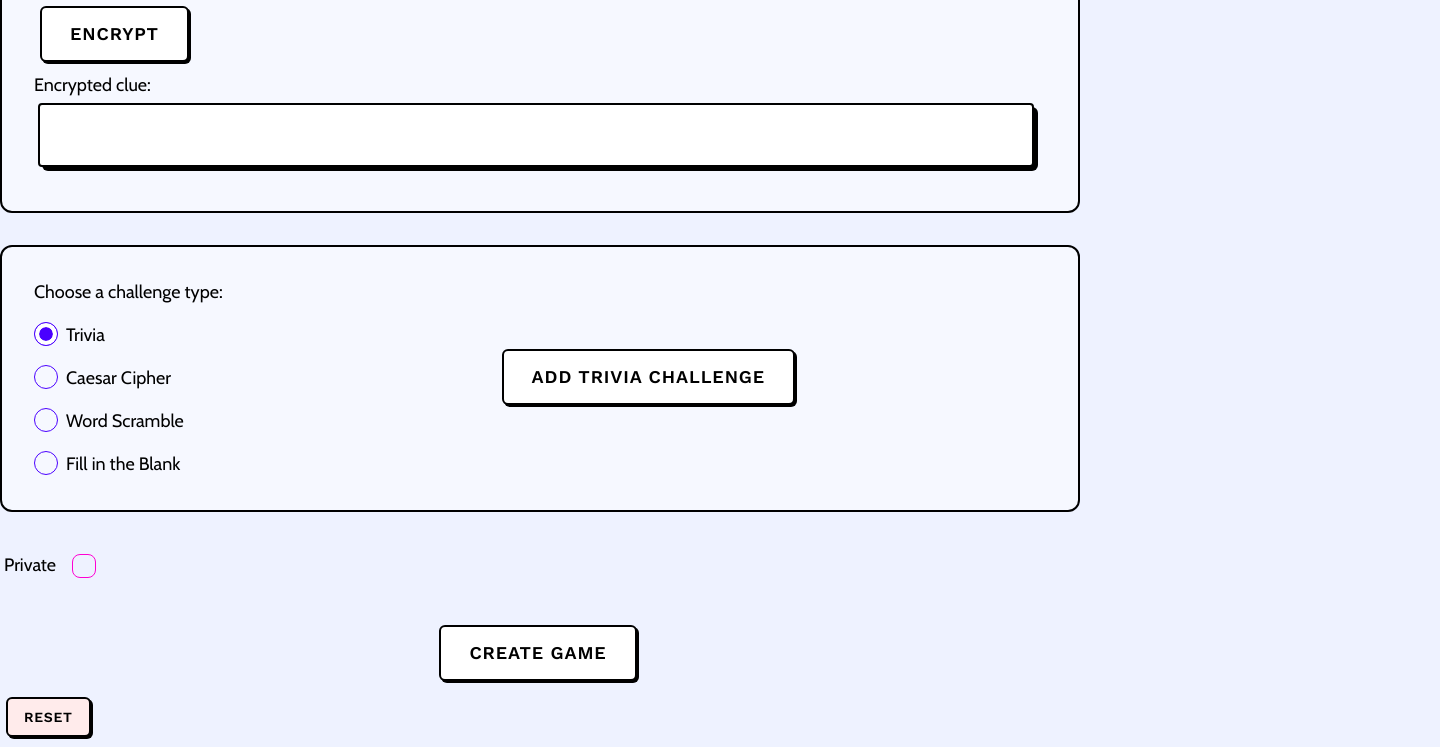
Test case: Handle form inputs and submission › resets the form when Reset button is clicked
The width and height of the screenshot is (1440, 747).
(page scrolled)
Click the button "Reset": (50, 719) [8,699,93,739]
(page scrolled)
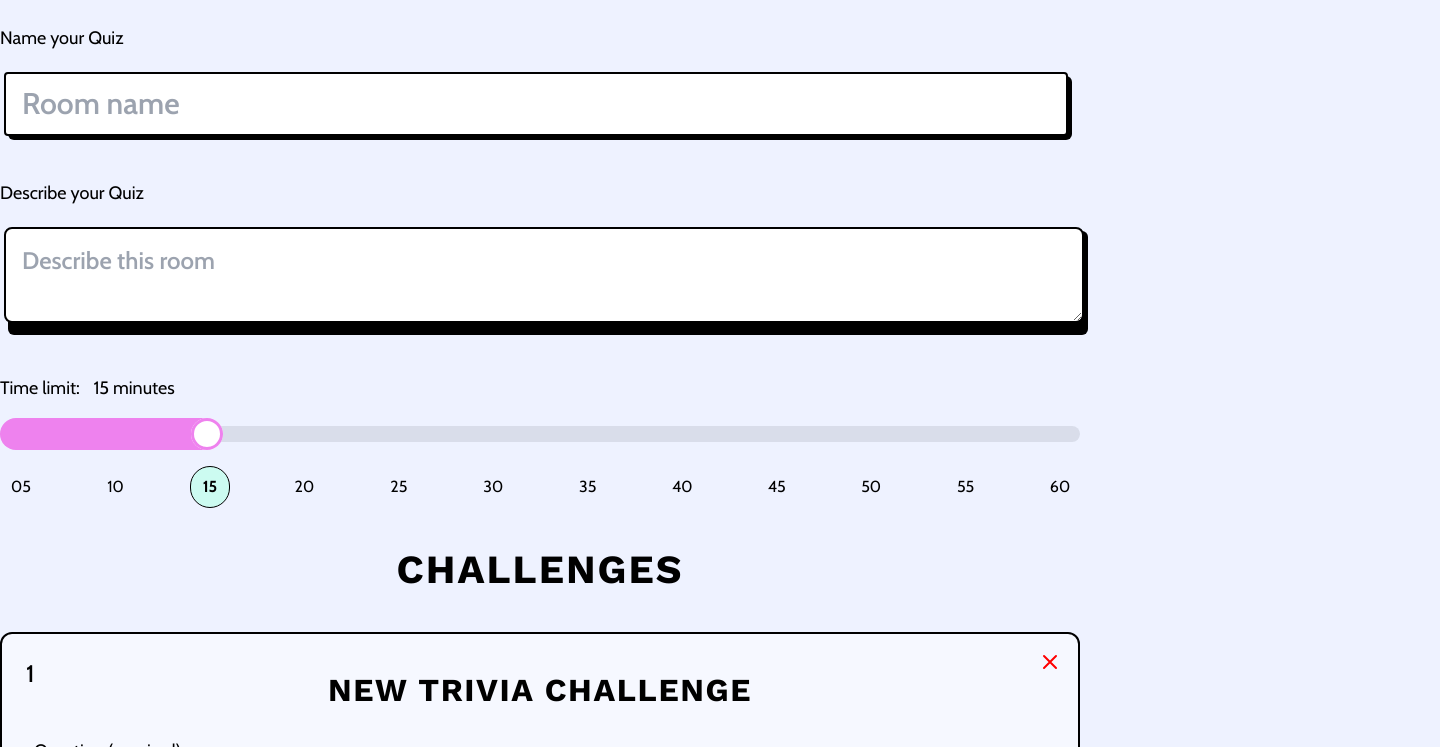
Now the field labelled "Name your Quiz" is empty, box [4,72,1068,136]
Now the text box labelled "Describe your Quiz" is empty, box [4,227,1084,323]
